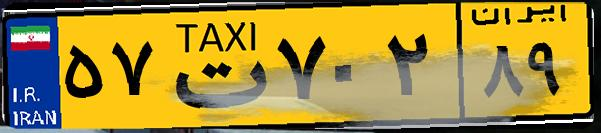0: (330, 28, 385, 110)
2: (385, 28, 445, 110)
5: (57, 26, 110, 100)
7: (270, 28, 330, 110), (110, 28, 158, 98)
8: (475, 38, 525, 113)
9: (525, 38, 570, 115)
ت: (158, 12, 270, 120)
